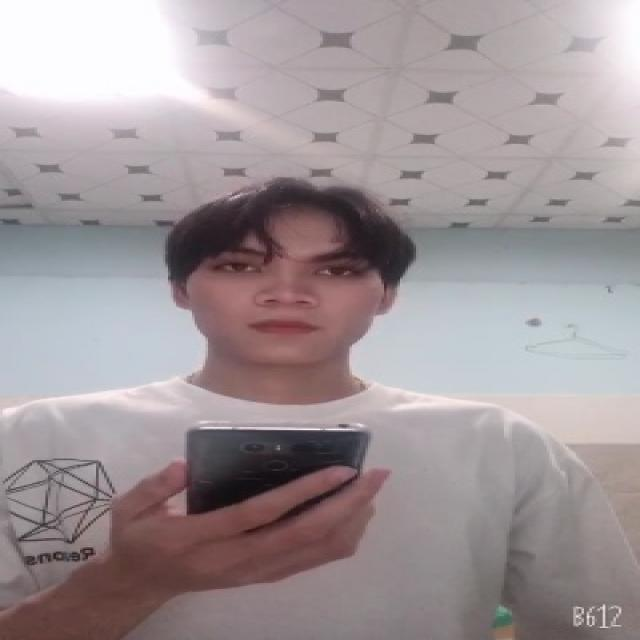Phone: (183, 419, 371, 536)
